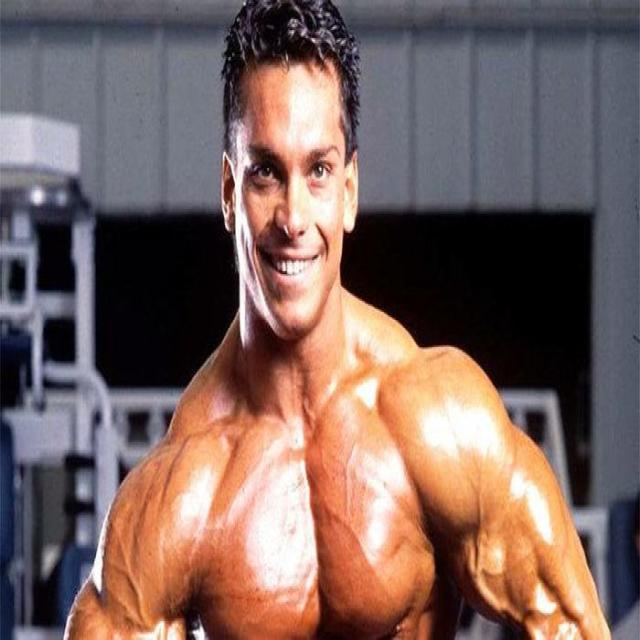human: (62, 5, 612, 640)
